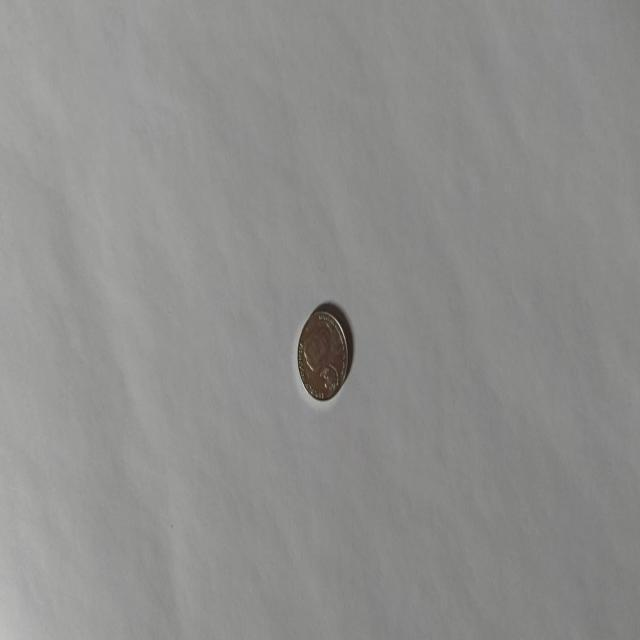seratus rupiah: (296, 306, 348, 402)
